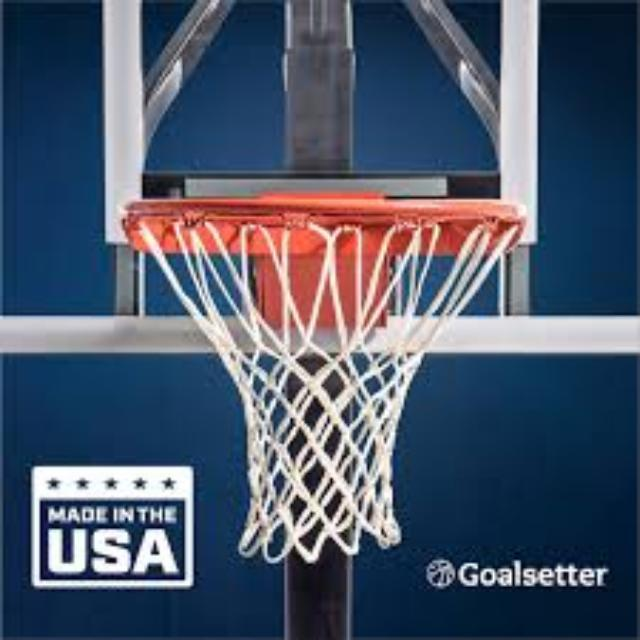rim: (128, 201, 526, 564)
